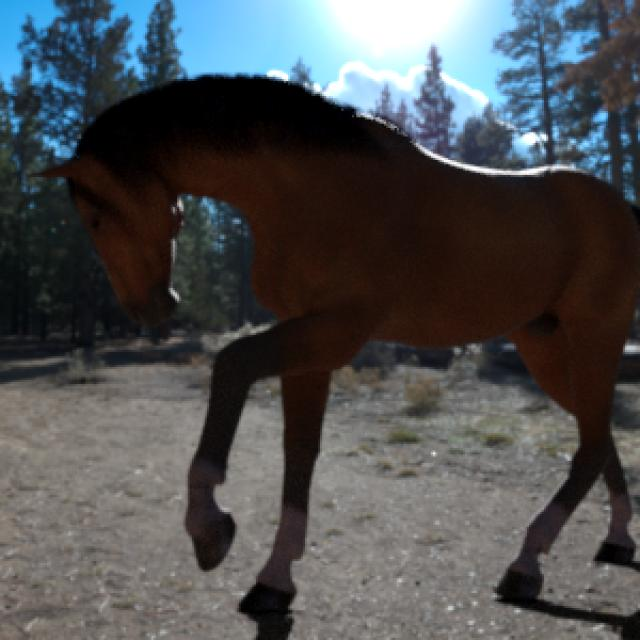horse: (41, 76, 640, 613)
